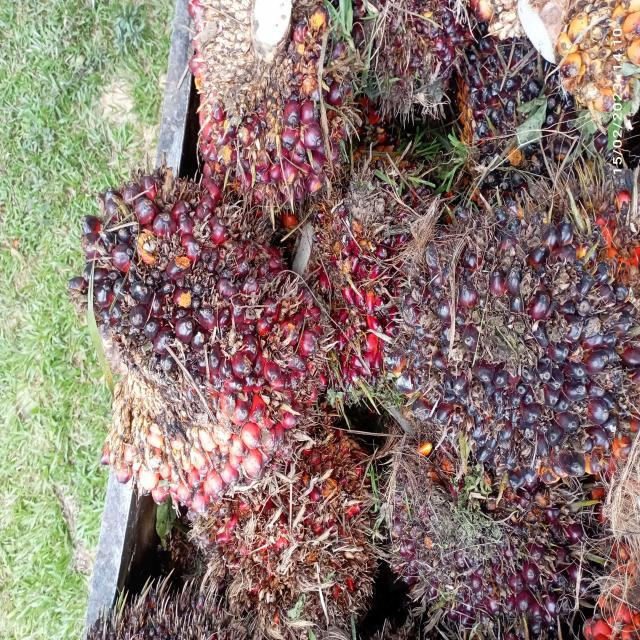fraksi 00: (400, 184, 640, 488), (390, 450, 590, 640)
fraksi 1: (58, 159, 326, 519), (183, 0, 356, 238)
fraksi 4: (187, 442, 380, 616)
